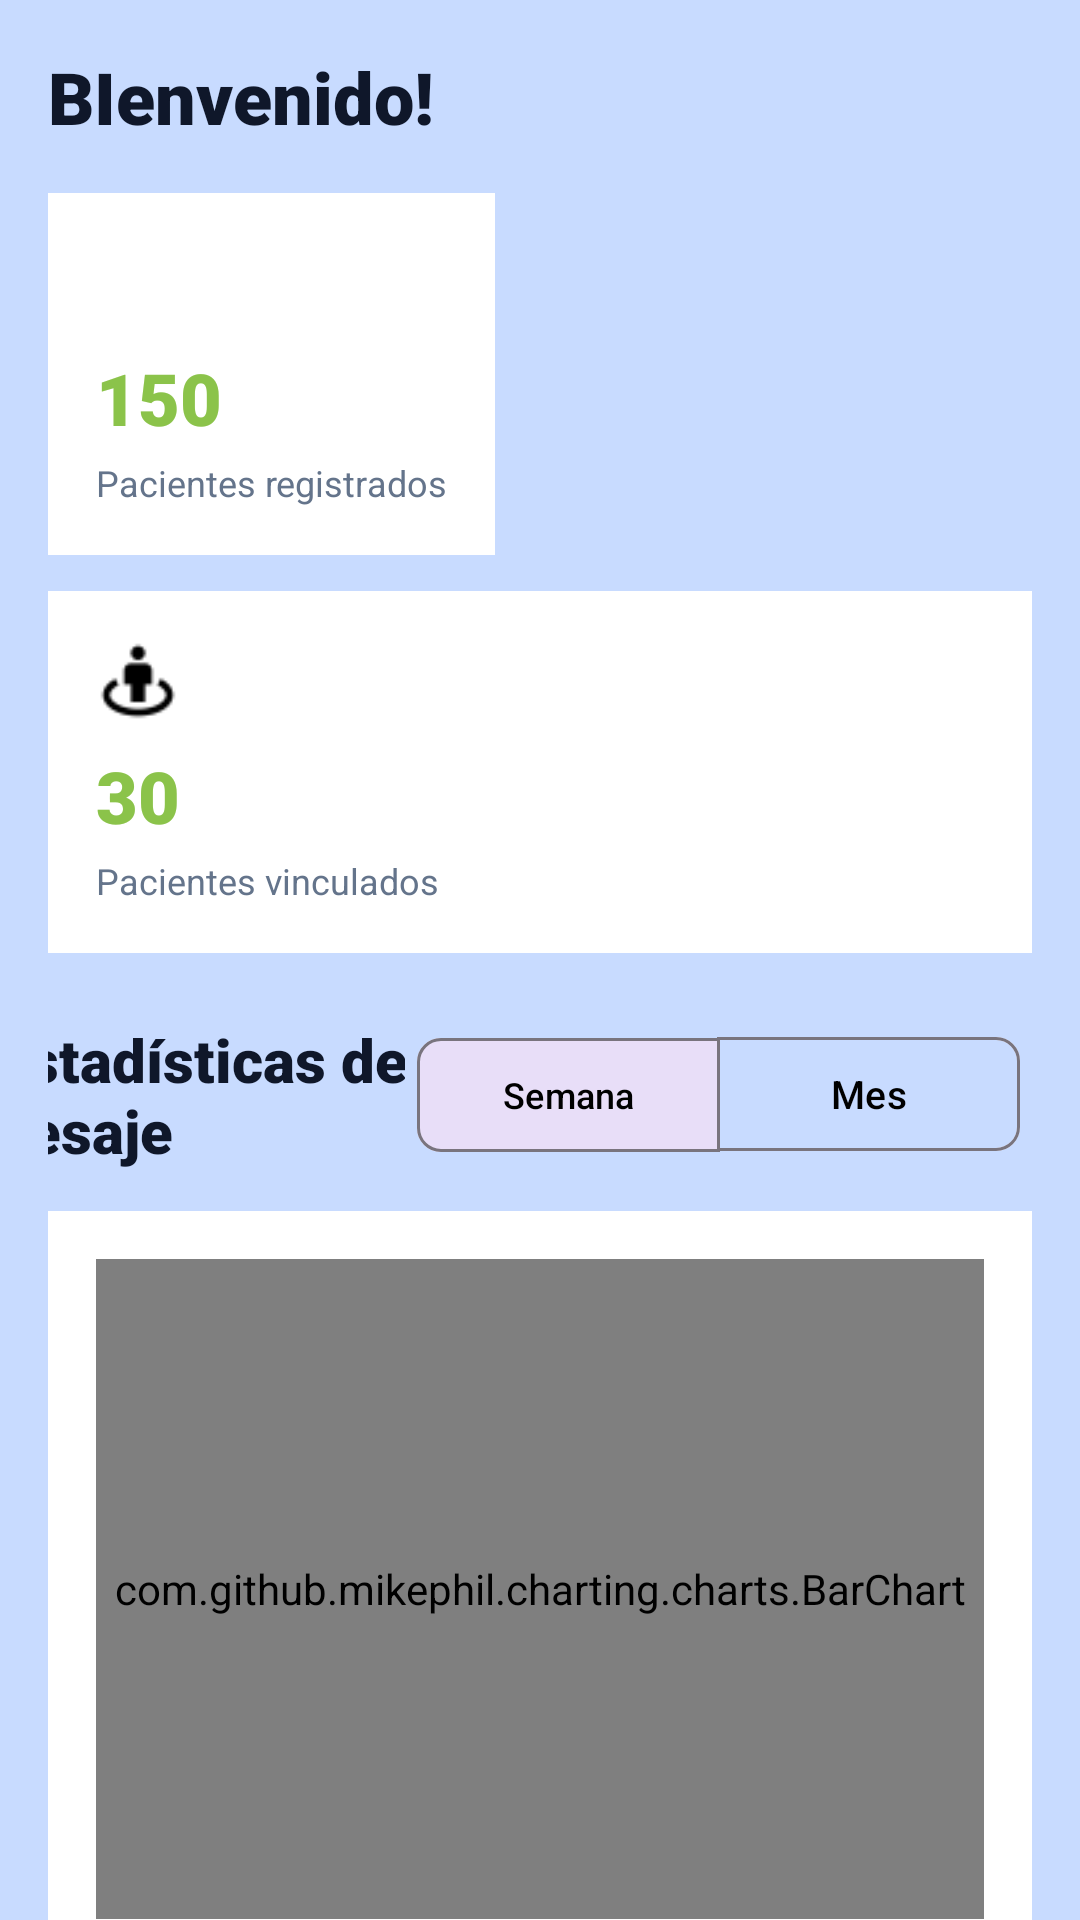

Named icons in this screenshot (1080×1920) and their centers, (x,y):
patient linked: (138,681)
